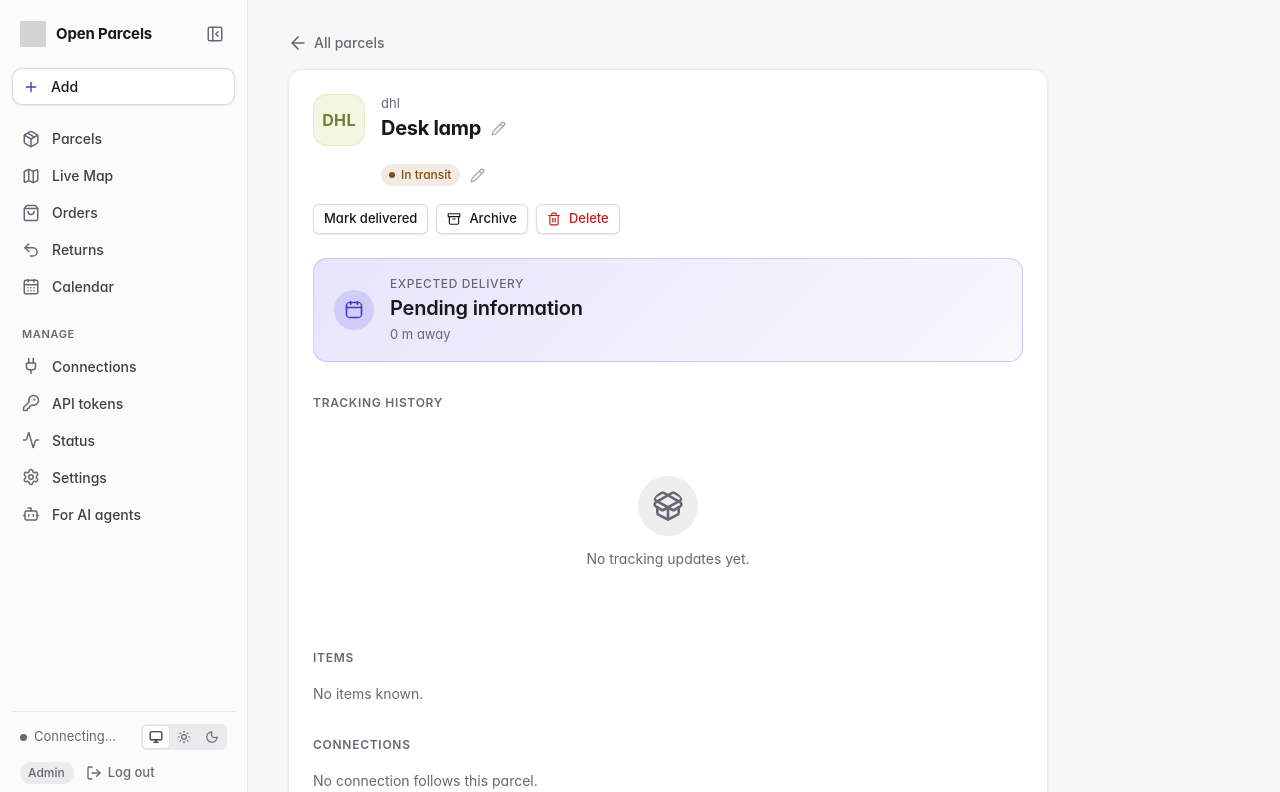
it: editing a parcel in place › lets a keyboard user reach Cancel without saving the label (OP-155)
Step 1. Click the button named "Rename" → (498, 128), box [485,116,511,142]
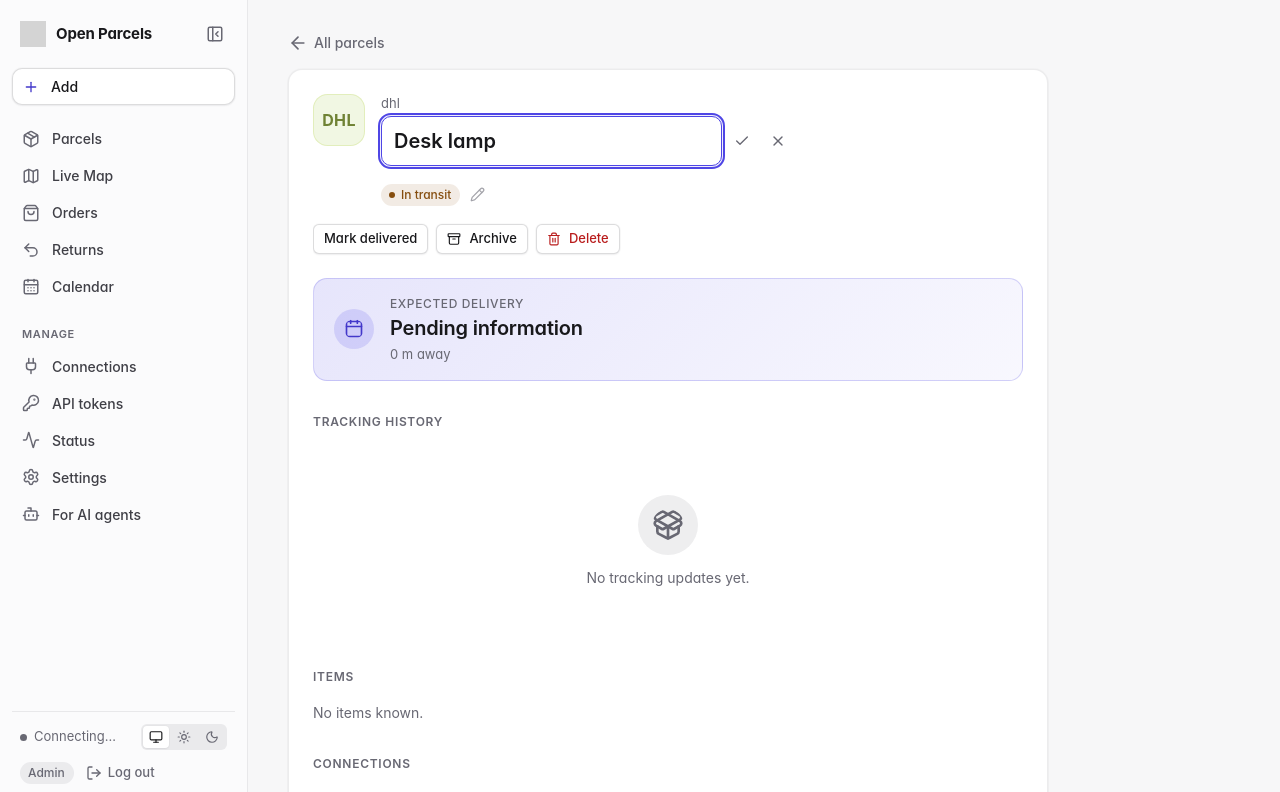
Step 2. Type keys " changed"
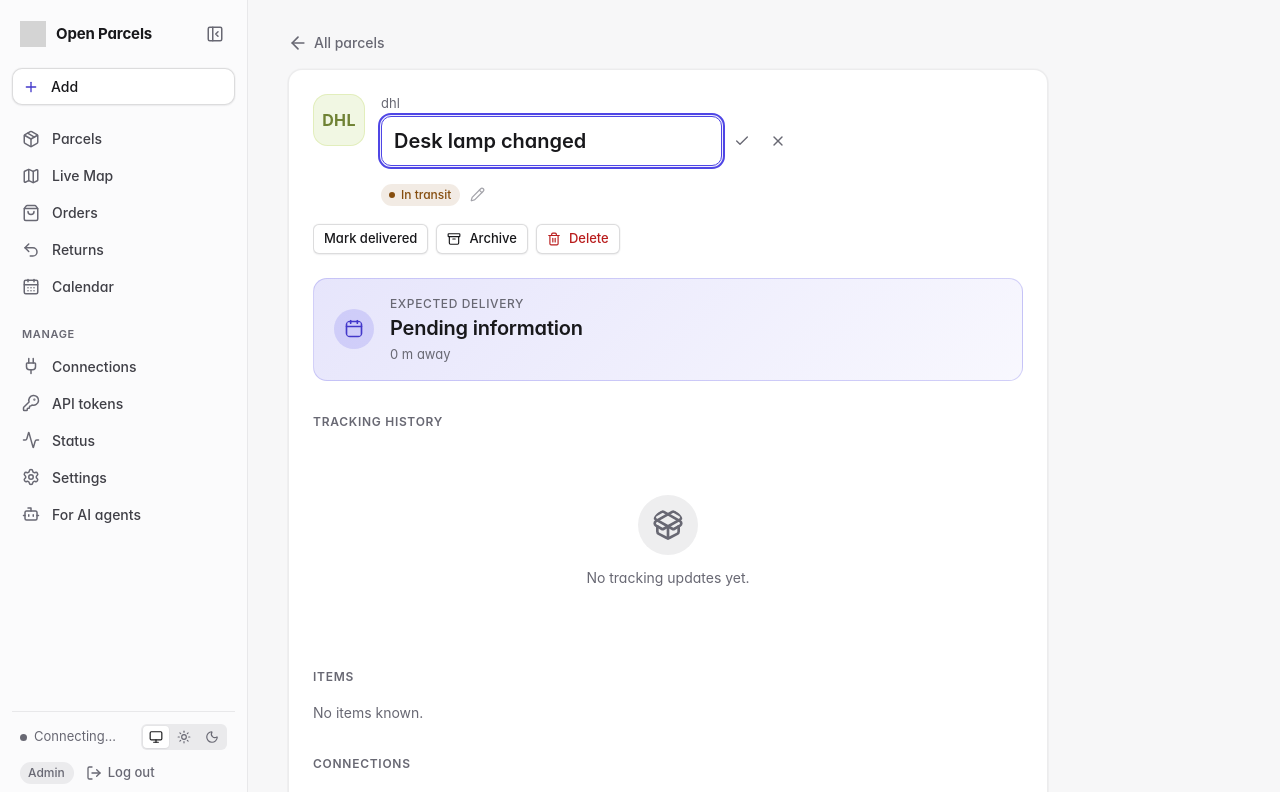
Step 3. Press Tab
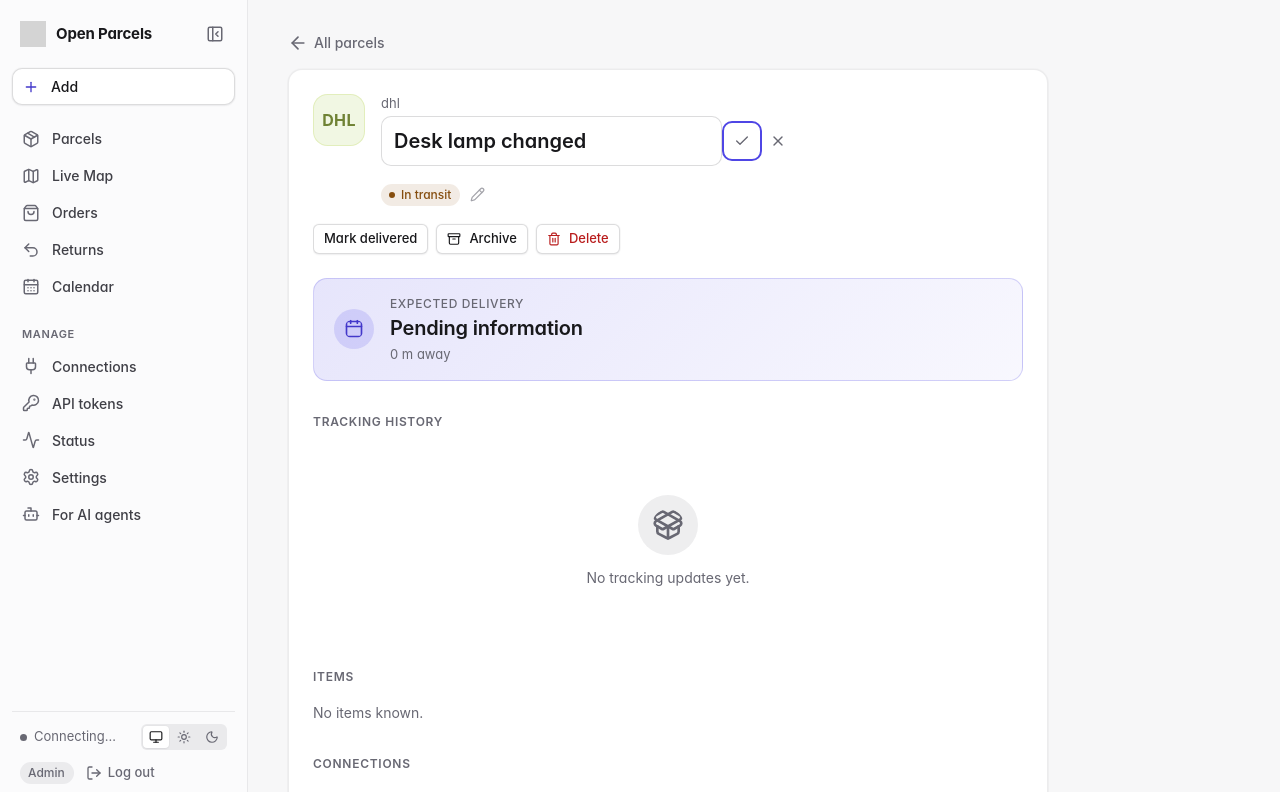
Step 4. Press Tab
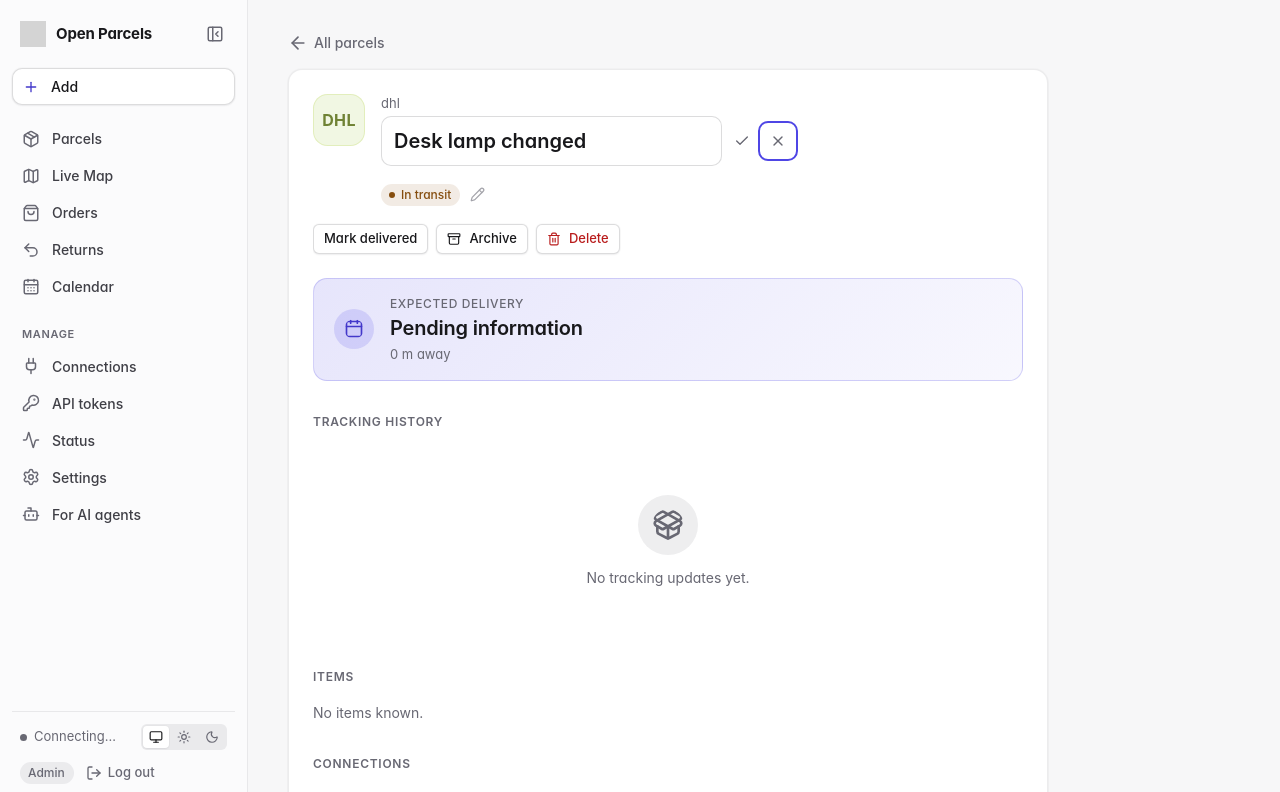
Step 5. Press Enter
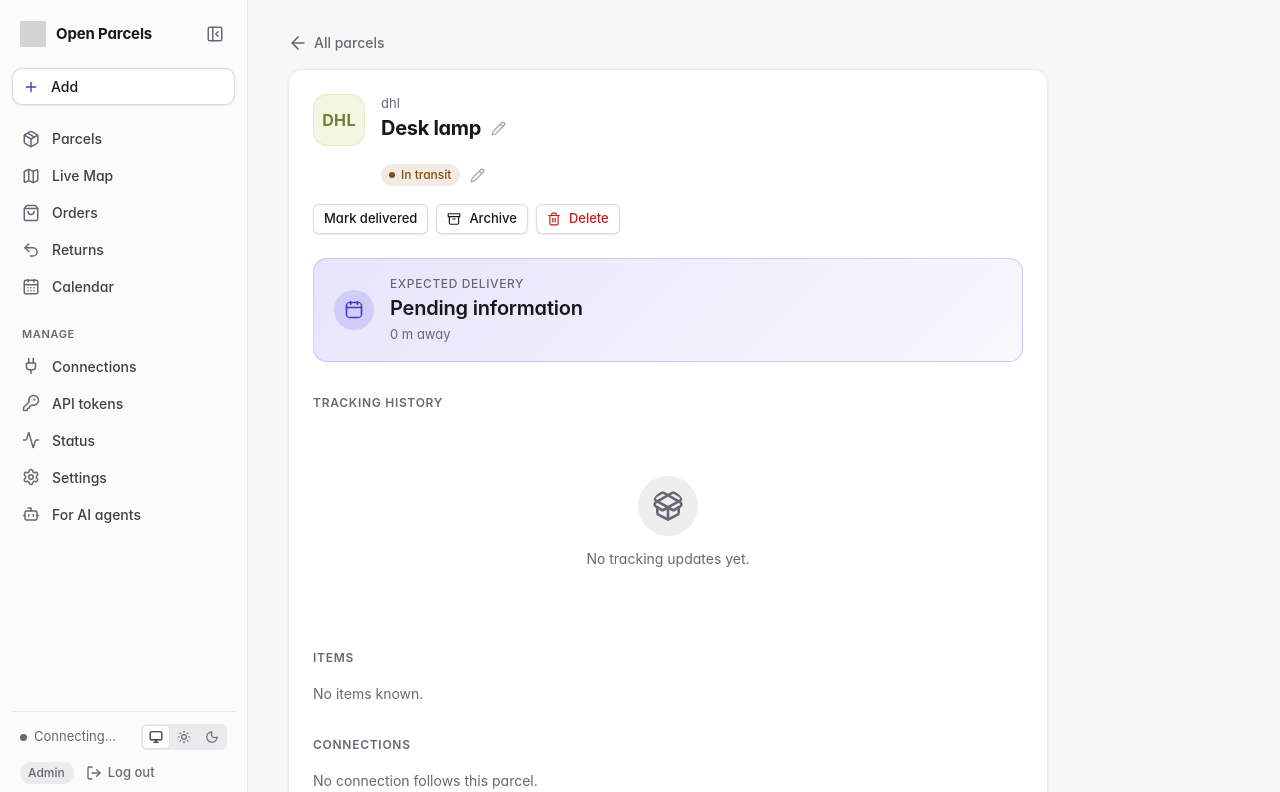
Now the heading "Desk lamp" is shown, box [381,117,481,140]
